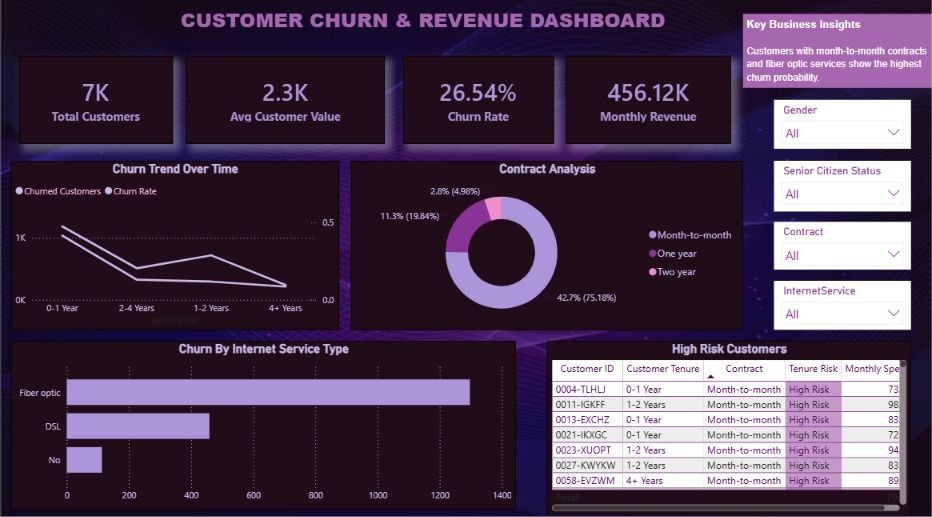

This screenshot's page, from the dashboard's own definition file:
{"tool":"powerbi","page":{"name":"Customer Churn","canvas":[1280,720],"ordinal":0},"visuals":[{"type":"cardVisual","fields":{"Data":["Telco-Customer-Churn.Total Customers"]},"box":[26.1,81,211.3,120.8],"z":0},{"type":"cardVisual","fields":{"Data":["Telco-Customer-Churn.Churn Rate"]},"box":[553,81,207.2,120.8],"z":1000},{"type":"cardVisual","fields":{"Data":["Telco-Customer-Churn.Avg Customer Value"]},"box":[255.2,81,273.1,120.8],"z":2000},{"type":"cardVisual","fields":{"Data":["Telco-Customer-Churn.Monthly Revenue"]},"box":[776.7,81,226.4,120.8],"z":3000},{"type":"textbox","box":[160.5,6.9,839.8,74.1],"z":4000},{"type":"lineChart","title":"Churn Trend Over Time","fields":{"Y":["Telco-Customer-Churn.Churned Customers"],"Category":["Telco-Customer-Churn.Tenure Group"],"Y2":["Telco-Customer-Churn.Churn Rate"]},"box":[15.1,225,450.1,231.9],"z":5000},{"type":"donutChart","title":"Contract Analysis","fields":{"Y":["Telco-Customer-Churn.Churn Rate"],"Category":["Telco-Customer-Churn.Contract"]},"box":[481.6,225,537.9,231.9],"z":6000},{"type":"barChart","title":"Churn By Internet Service Type","fields":{"Y":["Telco-Customer-Churn.Churned Customers"],"Category":["Telco-Customer-Churn.InternetService"]},"box":[15.1,472,693,231.9],"z":7000},{"type":"tableEx","title":"High Risk Customers","fields":{"Values":["Telco-Customer-Churn.customerID","Telco-Customer-Churn.Tenure Group","Telco-Customer-Churn.Contract","Telco-Customer-Churn.Risk Level","Min(Telco-Customer-Churn.MonthlyCharges)"]},"box":[750.6,472,499.5,240.1],"z":8000},{"type":"slicer","fields":{"Values":["Telco-Customer-Churn.gender"]},"box":[1062.1,141.3,188,67.2],"z":9000},{"type":"slicer","fields":{"Values":["Telco-Customer-Churn.Senior Citizen Status"]},"box":[1062.1,225,188,70],"z":10000},{"type":"slicer","fields":{"Values":["Telco-Customer-Churn.Contract"]},"box":[1062.1,308.7,188,65.9],"z":11000},{"type":"slicer","fields":{"Values":["Telco-Customer-Churn.InternetService"]},"box":[1062.1,389.7,188,67.2],"z":12000},{"type":"textbox","box":[1019.6,23.3,260.7,101.5],"z":13000}]}

Visuals, with their boxes in screenshot pixels (x1, y1, x2, y2), scaled from the page's 1280x720 canvas onto the 932x517 screenshot:
cardVisual - Telco-Customer-Churn.Total Customers: x1=19 y1=58 x2=173 y2=145
cardVisual - Telco-Customer-Churn.Churn Rate: x1=403 y1=58 x2=554 y2=145
cardVisual - Telco-Customer-Churn.Avg Customer Value: x1=186 y1=58 x2=385 y2=145
cardVisual - Telco-Customer-Churn.Monthly Revenue: x1=566 y1=58 x2=730 y2=145
textbox: x1=117 y1=5 x2=728 y2=58
"Churn Trend Over Time" lineChart: x1=11 y1=162 x2=339 y2=328
"Contract Analysis" donutChart: x1=351 y1=162 x2=742 y2=328
"Churn By Internet Service Type" barChart: x1=11 y1=339 x2=516 y2=505
"High Risk Customers" tableEx: x1=547 y1=339 x2=910 y2=511
slicer - Telco-Customer-Churn.gender: x1=773 y1=101 x2=910 y2=150
slicer - Telco-Customer-Churn.Senior Citizen Status: x1=773 y1=162 x2=910 y2=212
slicer - Telco-Customer-Churn.Contract: x1=773 y1=222 x2=910 y2=269
slicer - Telco-Customer-Churn.InternetService: x1=773 y1=280 x2=910 y2=328
textbox: x1=742 y1=17 x2=931 y2=90
